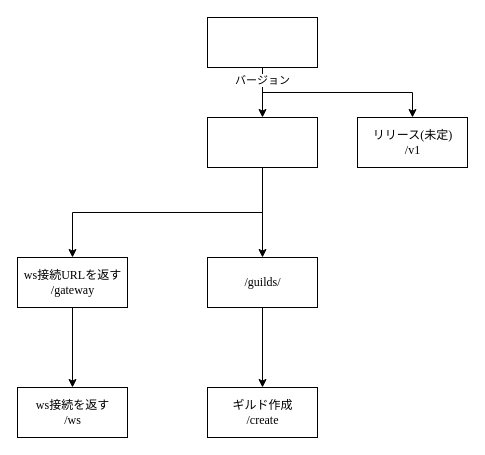
This 485x455 diagram has some shape labels left out. The shapes that lost their labels are listed below. From the top down, each one's centre as x and y in pixels, then its label:
At (262,42): "ベースURL /api".
At (262,142): "開発中 /v0".
